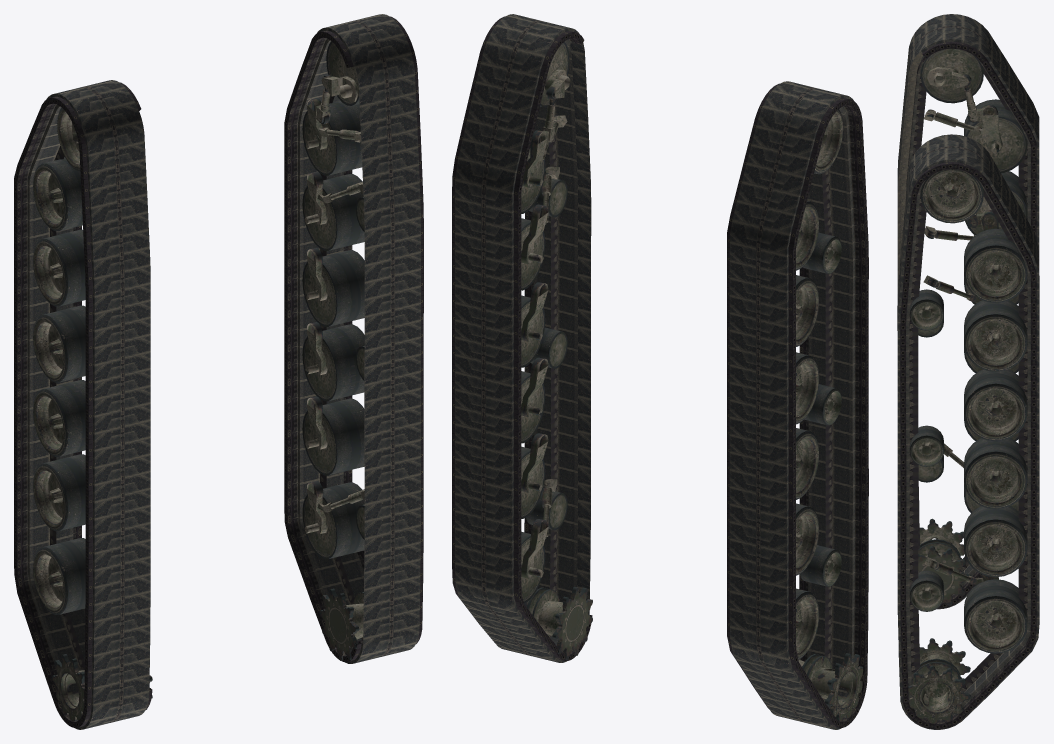
The model's file is Chassis.glb.
3 renders of one model, left to right at view 1: azimuth 30°, elevation 25°; view 2: azimuth 150°, elevation 25°; view 3: azimuth 270°, elevation 25°, orthographic. The views are drawn at different scales.
Visible parts, largest first — view 1: set_0_group_0, set_1_group_0, set_3_group_0, set_2_group_0; view 2: set_0_group_0, set_1_group_0, set_3_group_0, set_2_group_0; view 3: set_3_group_0, set_1_group_0, set_2_group_0, set_0_group_0.
Part boxes in pixels (x1,y1,x2,y2): set_0_group_0: (14, 80, 152, 729); set_1_group_0: (284, 14, 423, 663); set_3_group_0: (302, 41, 364, 660); set_2_group_0: (33, 107, 152, 721); set_0_group_0: (727, 81, 868, 729); set_1_group_0: (452, 14, 592, 662); set_3_group_0: (521, 42, 592, 660); set_2_group_0: (796, 109, 862, 721); set_3_group_0: (908, 169, 1027, 723); set_1_group_0: (897, 134, 1039, 729); set_2_group_0: (918, 48, 1027, 605); set_0_group_0: (897, 14, 1039, 609).
Bounding box in the file's own units: 3.67 × 6.52 × 1.47.
Materials: 4 (4 with a texture image).
